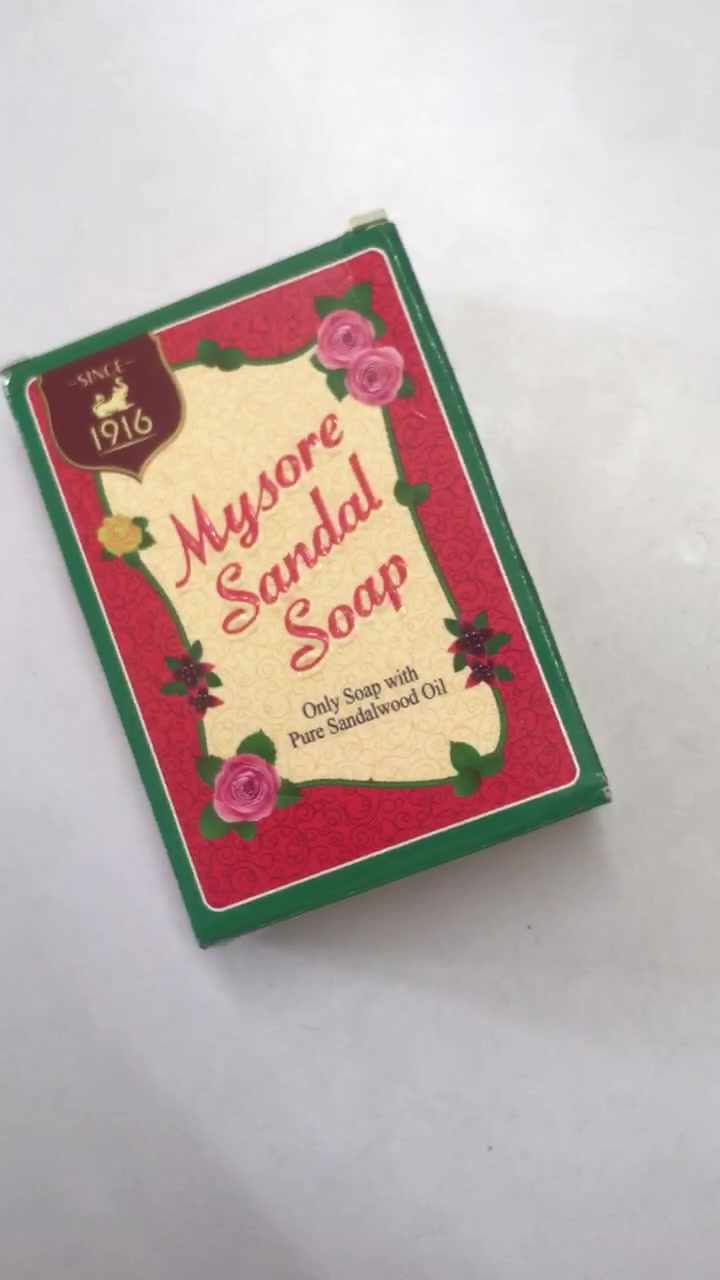mysore sandal soap: (5, 230, 612, 950)
